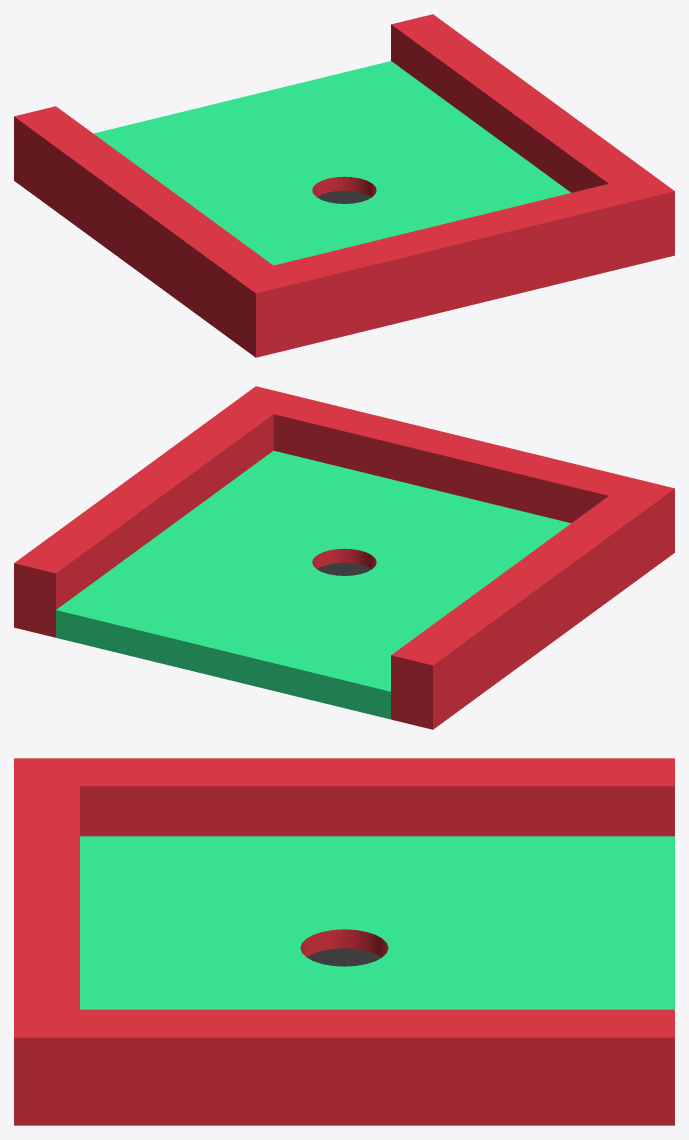
The model's file is holeSquare.fbx.
3 renders of one model, top to bottom at view 1: azimuth 30°, elevation 25°; view 2: azimuth 150°, elevation 25°; view 3: azimuth 270°, elevation 25°, orthographic. The views are drawn at different scales.
Parts seen in each view (by area): view 1: holeSquare; view 2: holeSquare; view 3: holeSquare.
Part boxes in pixels (x1,y1,x2,y2): holeSquare: (14,14,674,357); holeSquare: (14,386,674,729); holeSquare: (14,758,674,1125).
Size of the model in its own units: 10 by 1.47 by 10.
